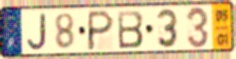3: (185, 5, 210, 50), (155, 8, 180, 50)
8: (53, 12, 76, 50)
B: (116, 9, 145, 50)
J: (26, 12, 48, 52)
P: (85, 9, 115, 52)
